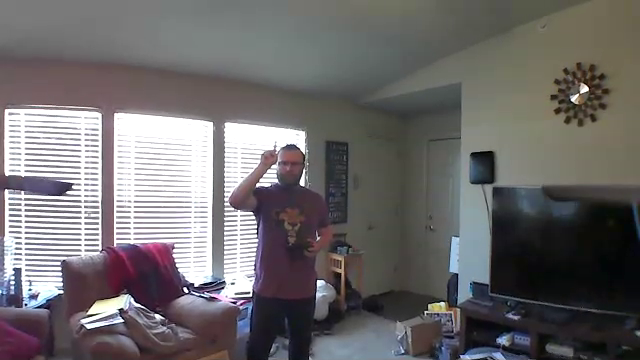up: (257, 139, 284, 174)
